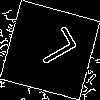L: (24, 24, 79, 72)
